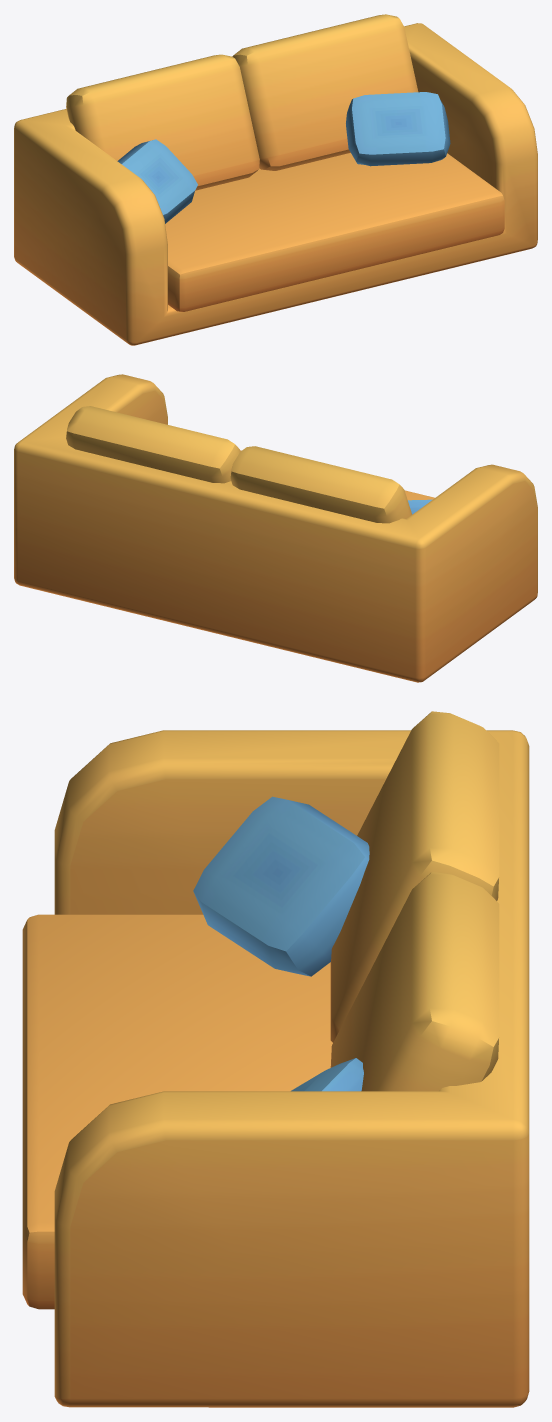
Rendered from couch_pillows.glb.
The picture shows the model from 3 angles, top to bottom: view 1: azimuth 30°, elevation 25°; view 2: azimuth 150°, elevation 25°; view 3: azimuth 270°, elevation 25°; orthographic projection. The views are drawn at different scales.
Parts seen in each view (by area): view 1: couch_pillows; view 2: couch_pillows; view 3: couch_pillows.
Part boxes in pixels (left/top/right/bottom): couch_pillows: left=14, top=14, right=537, bottom=345; couch_pillows: left=14, top=374, right=537, bottom=682; couch_pillows: left=22, top=711, right=529, bottom=1407.
Size of the model in its own units: 3 by 1.22 by 1.6.
1 material, 1 textured.
